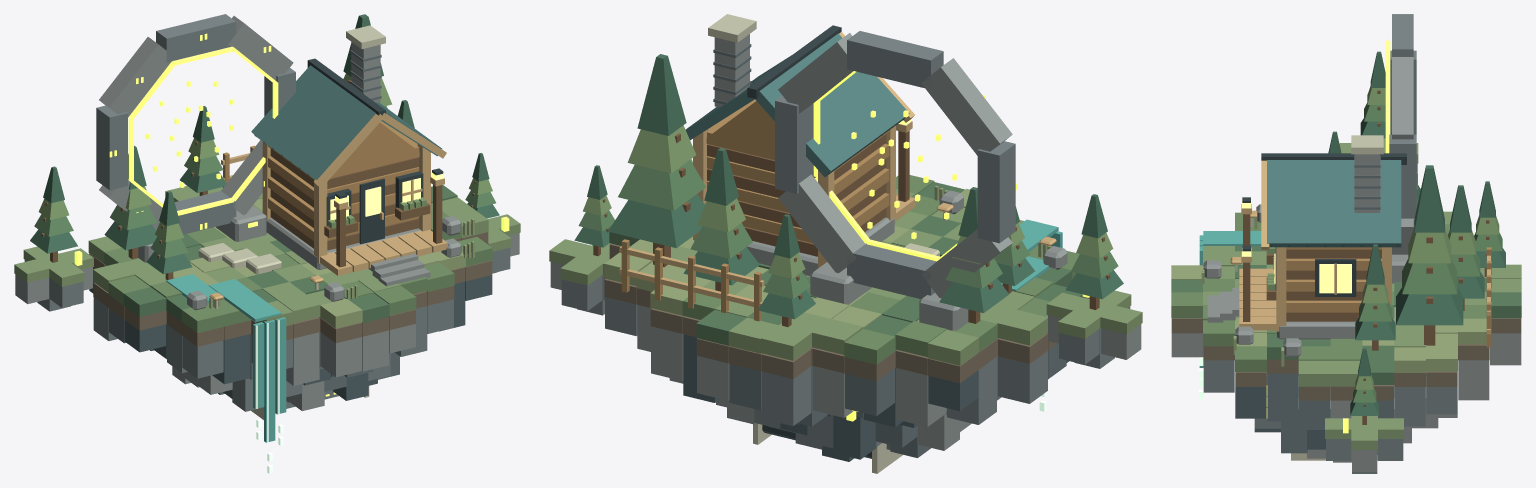
Rendered from spawnloft-world.glb.
3 renders of one model, left to right at view 1: azimuth 30°, elevation 25°; view 2: azimuth 150°, elevation 25°; view 3: azimuth 270°, elevation 25°, orthographic. The views are drawn at different scales.
Parts seen in each view (by area): view 1: World, Foundation, Portal, Satellites, World_Oxidized_copper, World_Honey_endgrain, World_Cut_earth, World_Smoked_oak, World_Golden_cedar, Portal_Portal_ion_lime, Foundation_Glacial_water, World_Ink_hardware (+5 smaller); view 2: World, Portal, Foundation, Satellites, World_Cut_earth, World_Oxidized_copper, World_Golden_cedar, World_Smoked_oak, World_Honey_endgrain, Portal_Portal_ion_lime, Details_Honey_endgrain, Details_Golden_cedar (+5 smaller); view 3: World, Foundation, World_Oxidized_copper, Satellites, Portal, World_Cut_earth, World_Smoked_oak, World_Honey_endgrain, World_Golden_cedar, World_Ink_hardware, Details, World_Warm_windows (+4 smaller).
Boxes of the visible parts, x1,y1,x2,y2 form: World: (88, 14, 492, 333); Foundation: (89, 275, 492, 411); Portal: (96, 14, 295, 262); Satellites: (14, 153, 520, 311); World_Oxidized_copper: (251, 65, 441, 179); World_Honey_endgrain: (262, 113, 447, 275); World_Cut_earth: (89, 232, 492, 346); World_Smoked_oak: (118, 80, 442, 280); World_Golden_cedar: (268, 121, 419, 240); Portal_Portal_ion_lime: (109, 33, 278, 229); Foundation_Glacial_water: (253, 317, 286, 442); World_Ink_hardware: (254, 58, 443, 243); World: (604, 34, 1085, 365); Portal: (775, 31, 1015, 330); Foundation: (605, 297, 1089, 461); Satellites: (549, 165, 1142, 368); World_Cut_earth: (604, 243, 1057, 383); World_Oxidized_copper: (685, 33, 909, 177); World_Golden_cedar: (706, 99, 889, 243); World_Smoked_oak: (653, 131, 1021, 326); World_Honey_endgrain: (693, 32, 916, 268); Portal_Portal_ion_lime: (813, 71, 1017, 261); Details_Honey_endgrain: (619, 202, 1056, 306); Details_Golden_cedar: (621, 239, 761, 321); World: (1171, 131, 1521, 386); Foundation: (1171, 333, 1521, 462); World_Oxidized_copper: (1267, 160, 1401, 247); Satellites: (1325, 51, 1418, 473); Portal: (1389, 14, 1416, 283); World_Cut_earth: (1171, 318, 1521, 400); World_Smoked_oak: (1243, 214, 1489, 350); World_Honey_endgrain: (1239, 160, 1391, 331); World_Golden_cedar: (1286, 247, 1381, 312); World_Ink_hardware: (1242, 153, 1406, 296); Details: (1201, 204, 1301, 366); World_Warm_windows: (1242, 199, 1351, 293).
Bounding box in the file's own units: 7.97 × 5.77 × 4.84.
